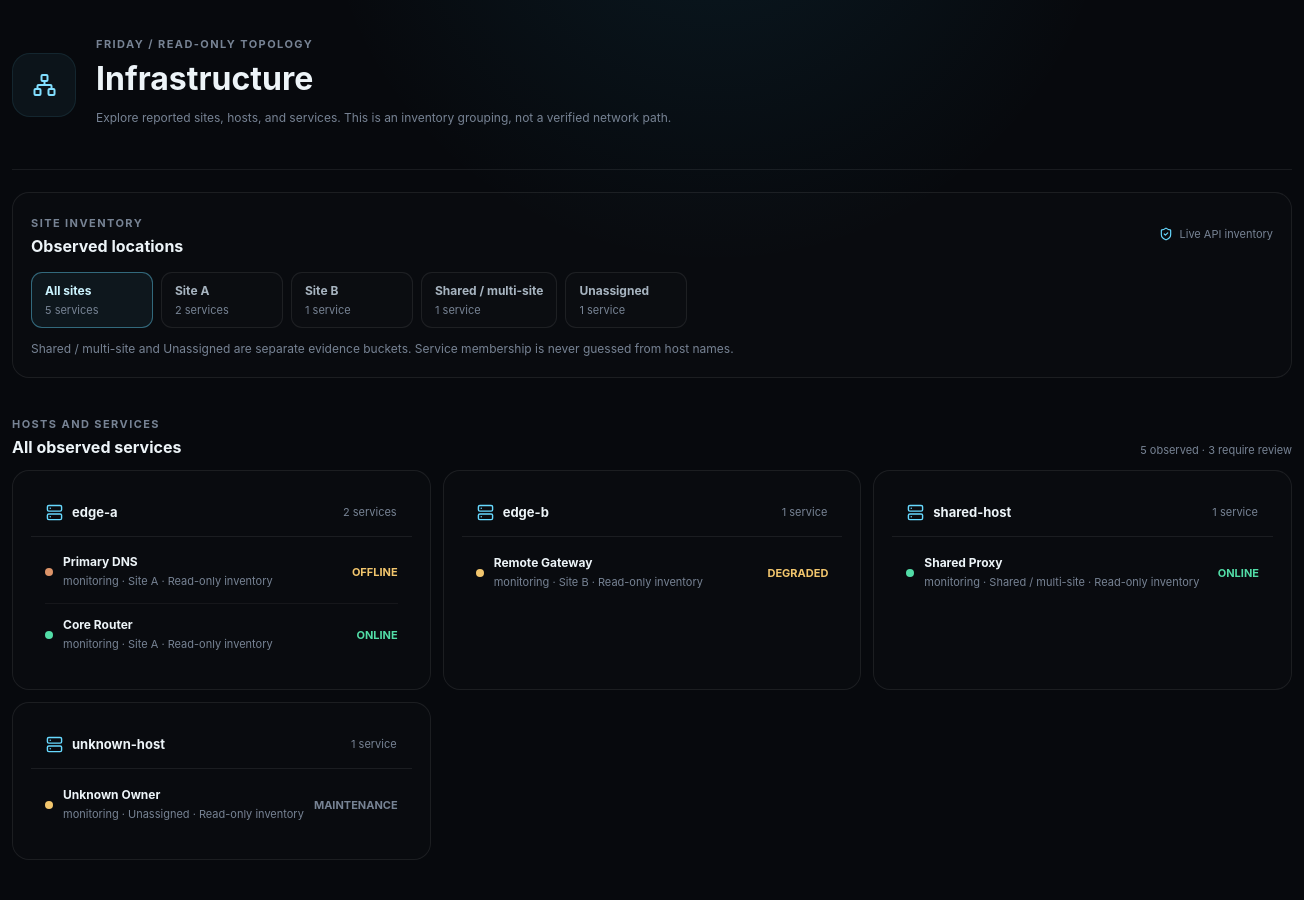
Test: InfrastructureWorkspace site topology › filters by exact observed site, never duplicating ambiguous shared services
Click the button "Site B 1 service" at (352, 300), box [291, 272, 413, 328]
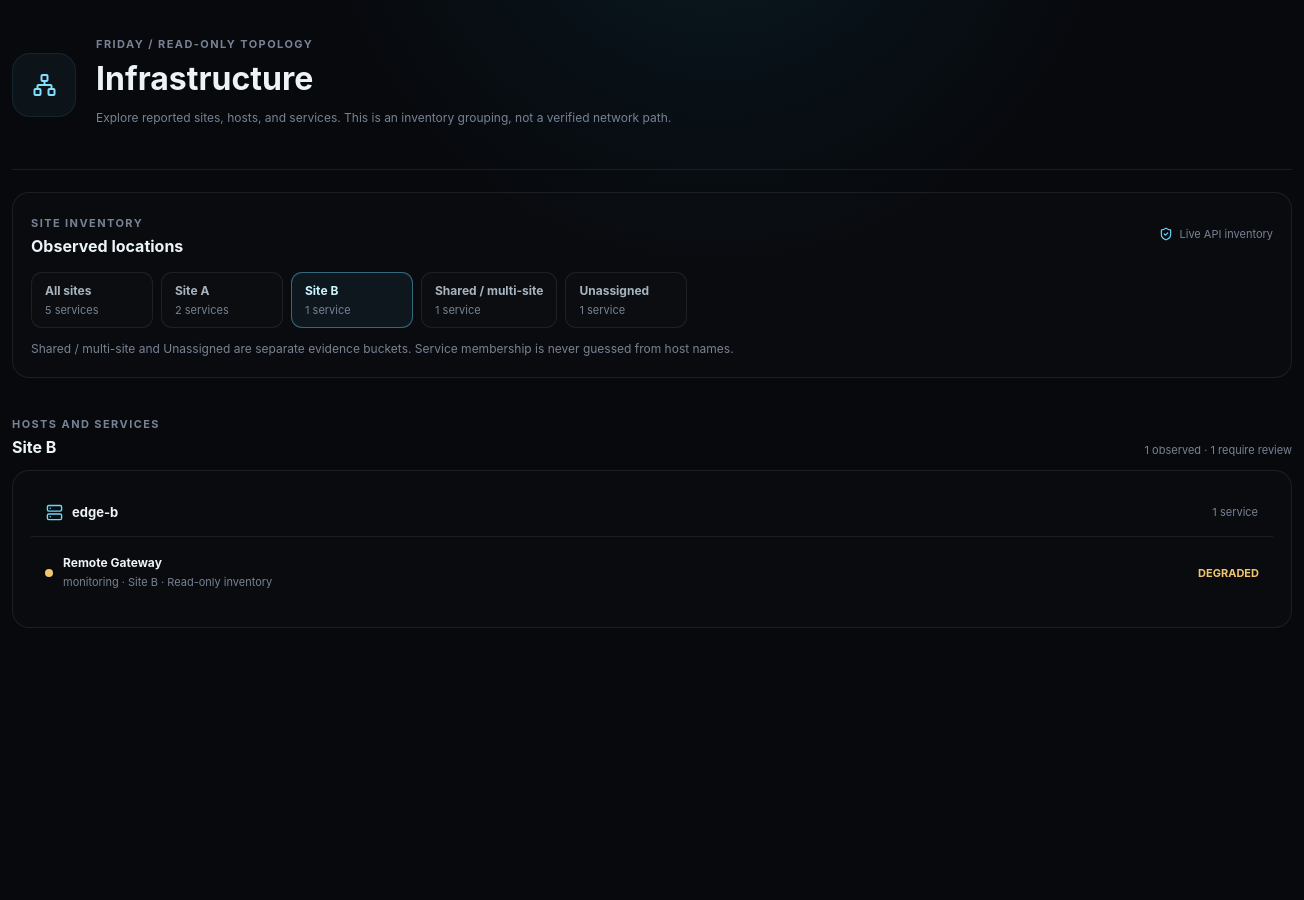
Result: the text "Core Router" is gone
Result: the text "Shared Proxy" is gone
Result: the text "Unknown Owner" is gone
Click the button "Shared / multi-site 1 service" at (489, 300), box [421, 272, 558, 328]
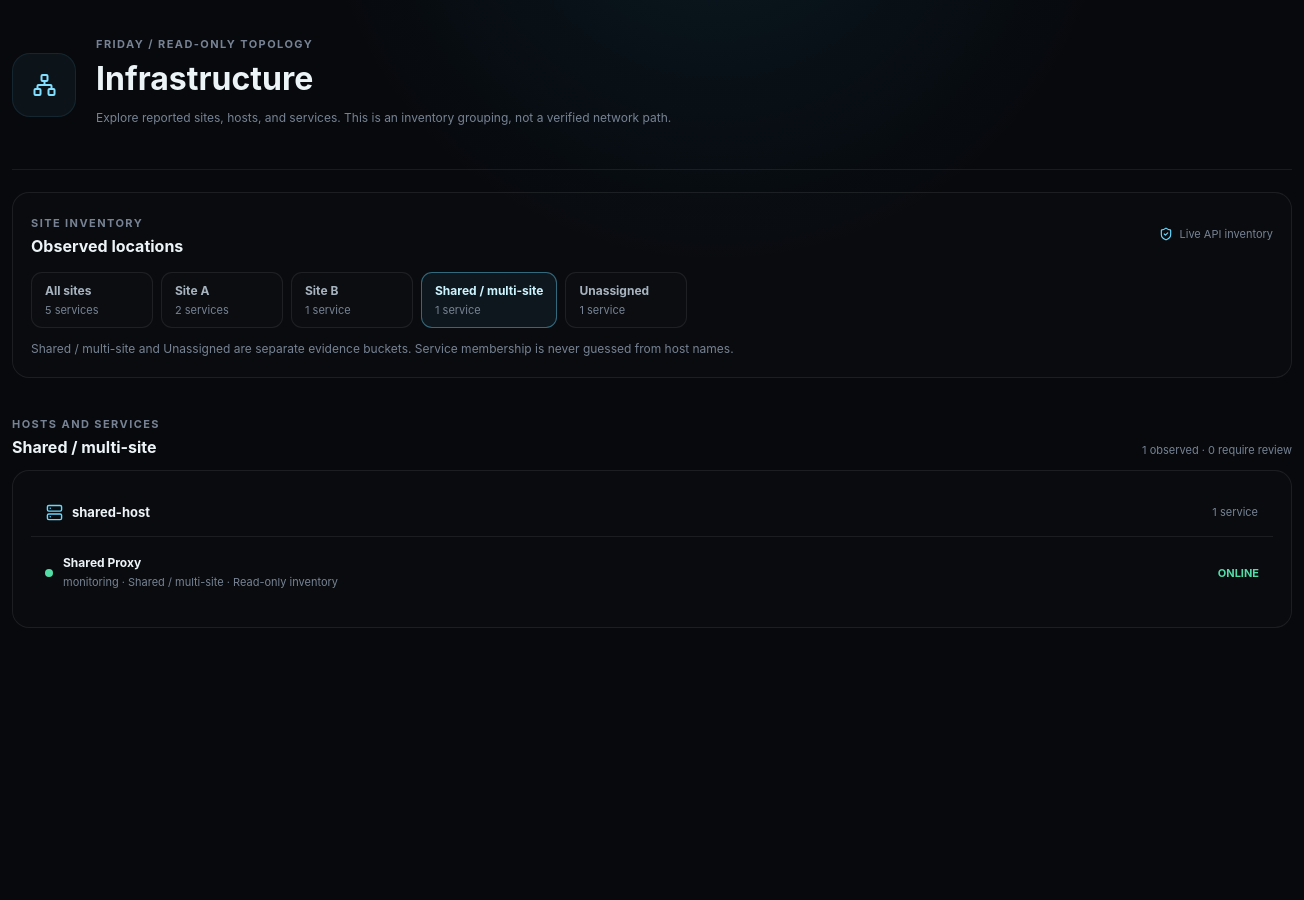
Result: the text "Shared Proxy" is shown at [63, 555, 141, 570]
Result: the text "Remote Gateway" is gone
Click the button "All sites 5 services" at (92, 300), box [31, 272, 153, 328]
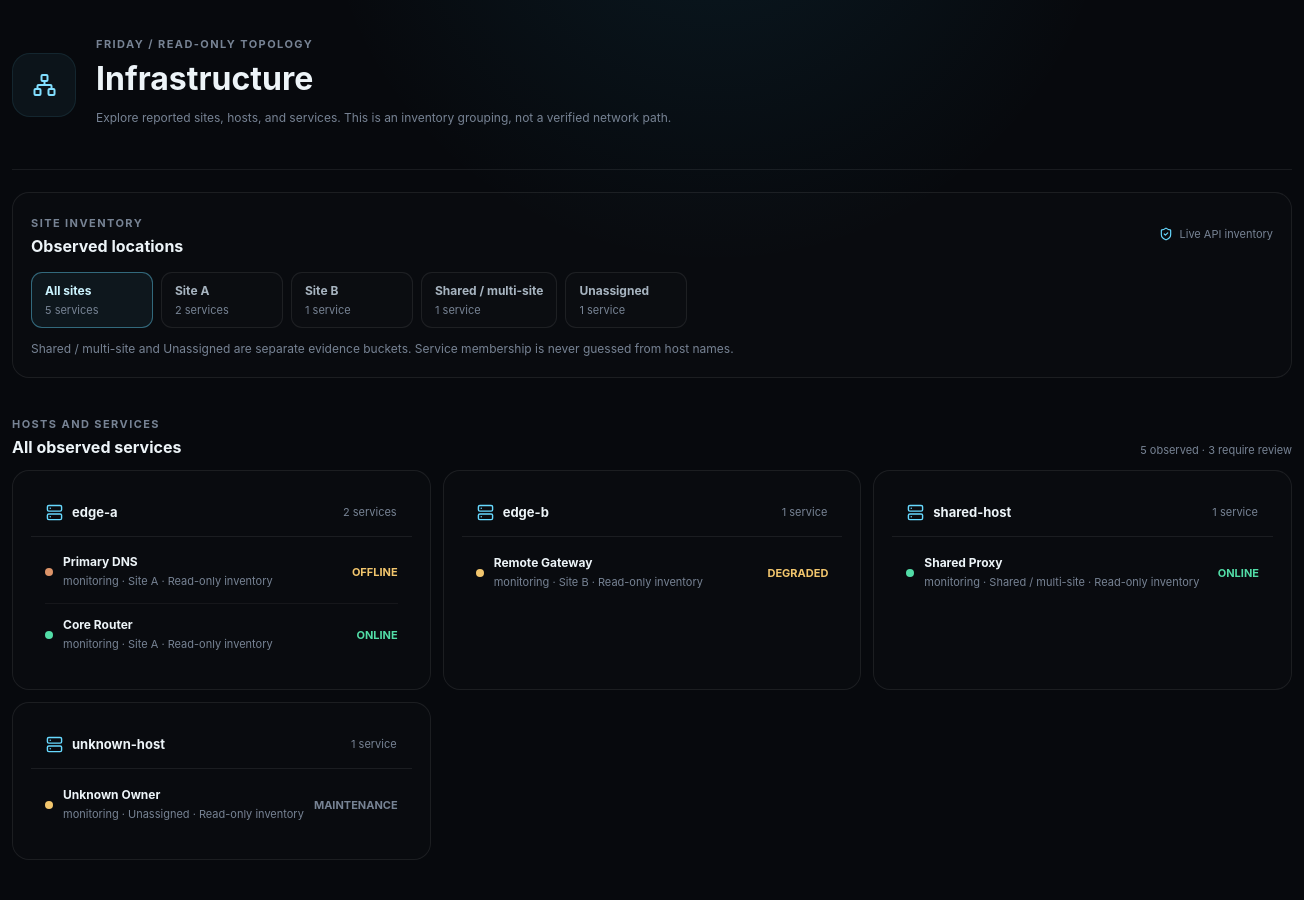
Result: the text "Primary DNS" is shown at [63, 554, 138, 569]
